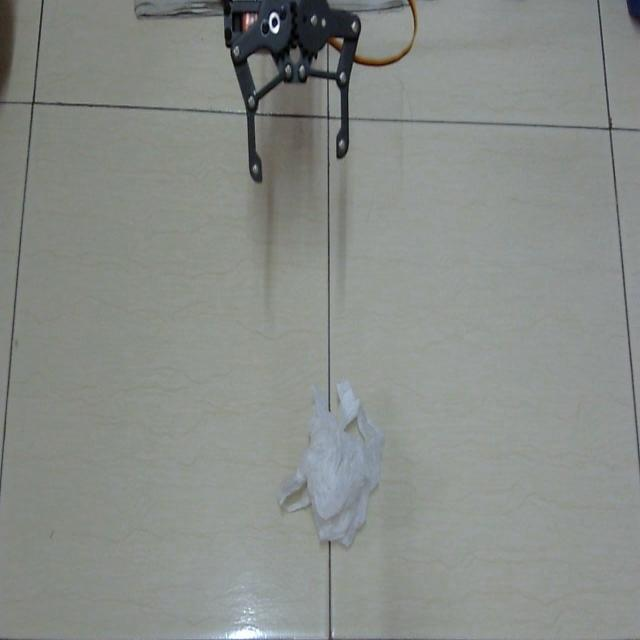plastic_laydown_0rotation: (274, 377, 393, 560)
